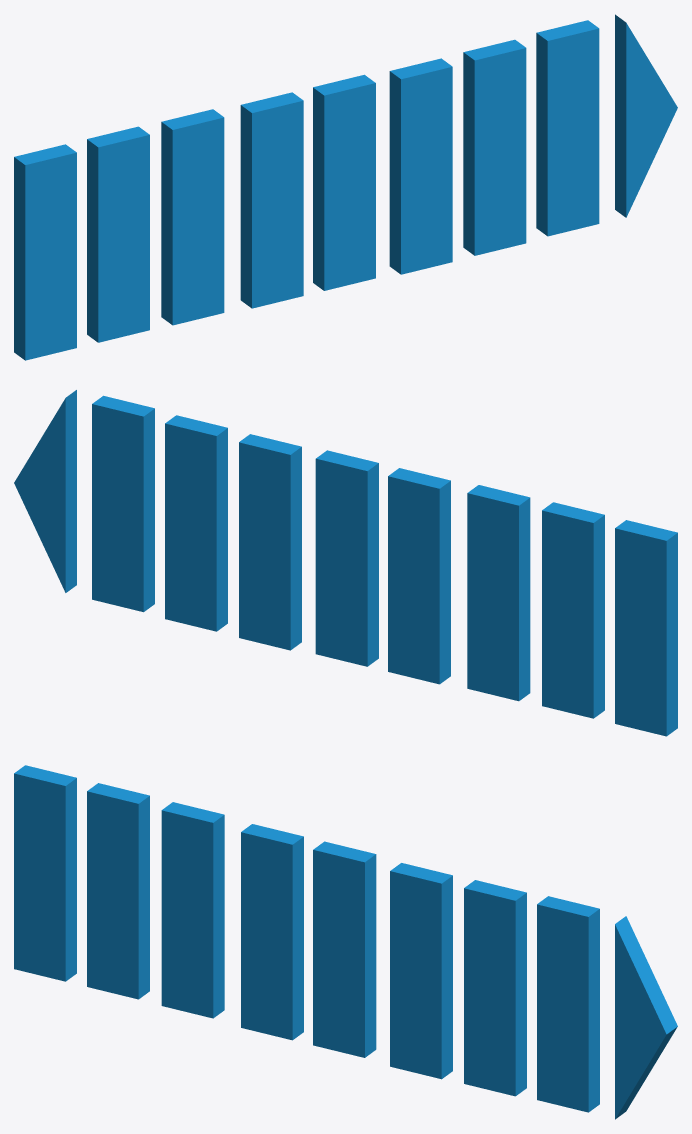
The model's file is asset.glb.
The picture shows the model from 3 angles, top to bottom: view 1: azimuth 30°, elevation 25°; view 2: azimuth 150°, elevation 25°; view 3: azimuth 330°, elevation 25°; orthographic projection.
Visible parts, largest first — view 1: Plane; view 2: Plane; view 3: Plane.
Boxes of the visible parts, bbox=[...] form: Plane: bbox=[14, 14, 677, 360]; Plane: bbox=[14, 390, 677, 736]; Plane: bbox=[14, 765, 677, 1119].
Size of the model in its own units: 5.83 by 1.72 by 0.1801.
